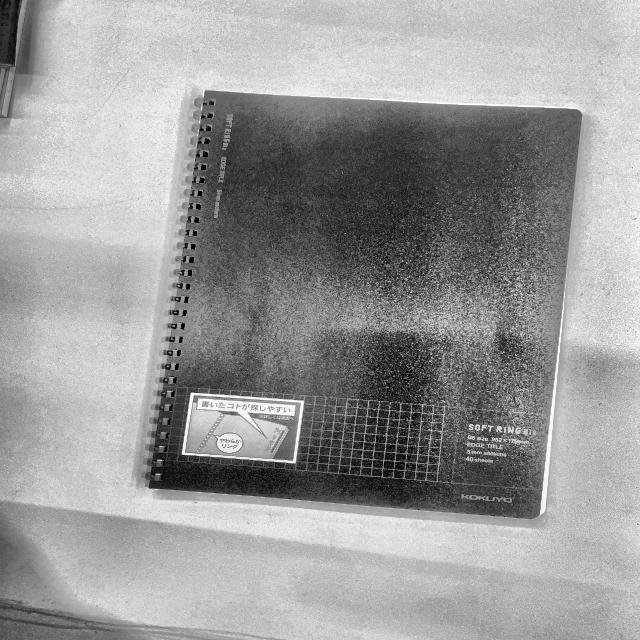Notebook: (132, 78, 588, 545)
